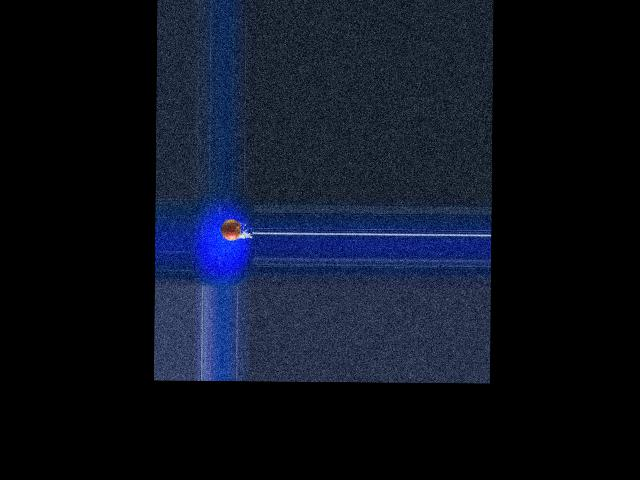tomato: (221, 218, 240, 240)
